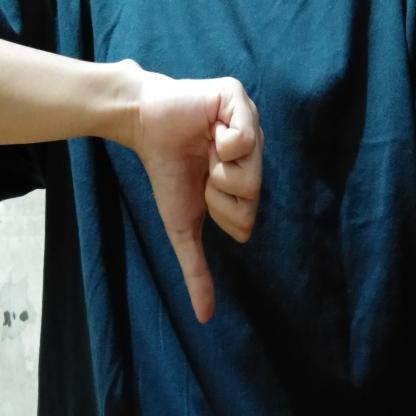no: (119, 54, 281, 334)
